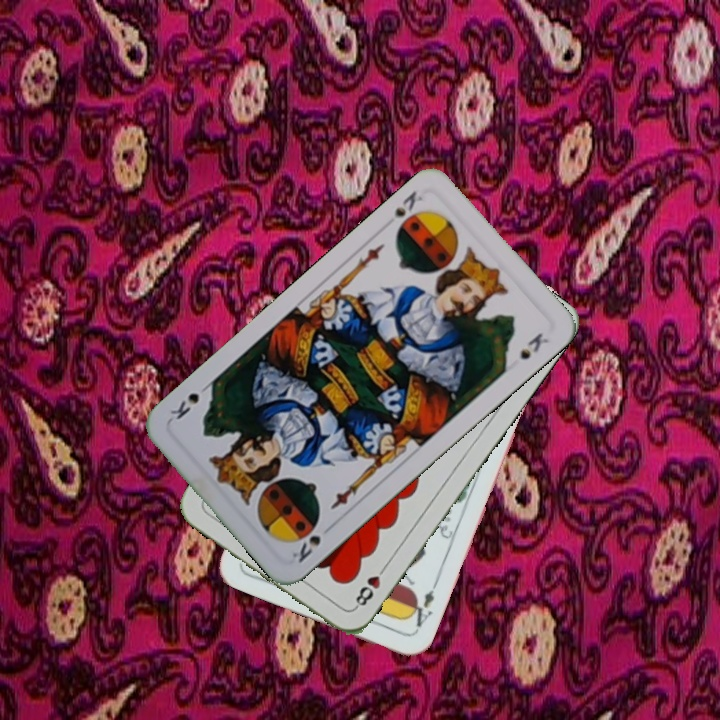EA: (404, 578, 441, 635)
H8: (350, 560, 390, 611)
SK: (288, 531, 324, 566), (390, 186, 425, 221)
